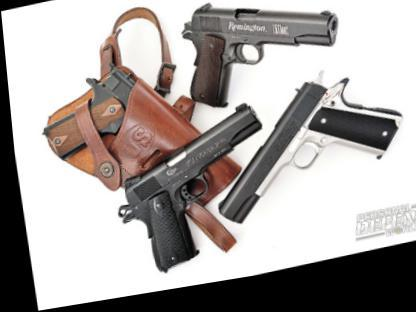pistol: (194, 55, 415, 238), (99, 100, 275, 280), (158, 0, 350, 120)
